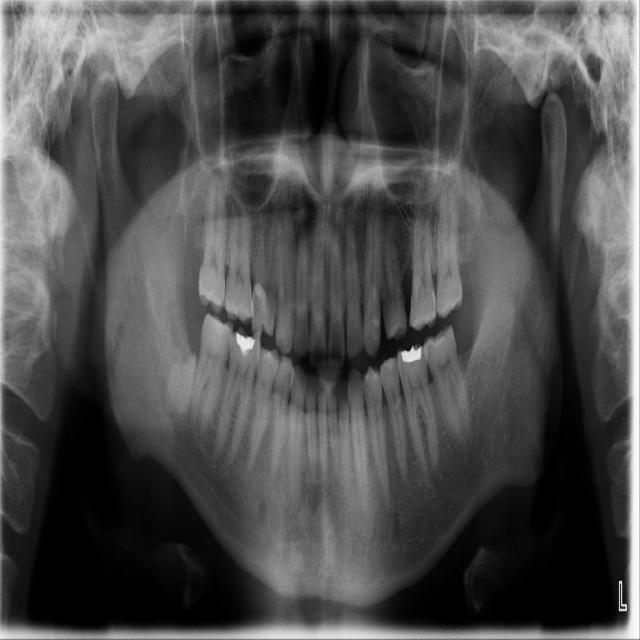52: (225, 325, 261, 380), (394, 341, 433, 390)
73: (598, 538, 601, 544)
BioHorizons Implant: (435, 185, 463, 319)
Blue Sky Bio Implant: (419, 322, 479, 448)
Caries: (199, 171, 227, 312)
Implant: (185, 313, 236, 437)
Keystone Dental Implant: (162, 339, 202, 420)
